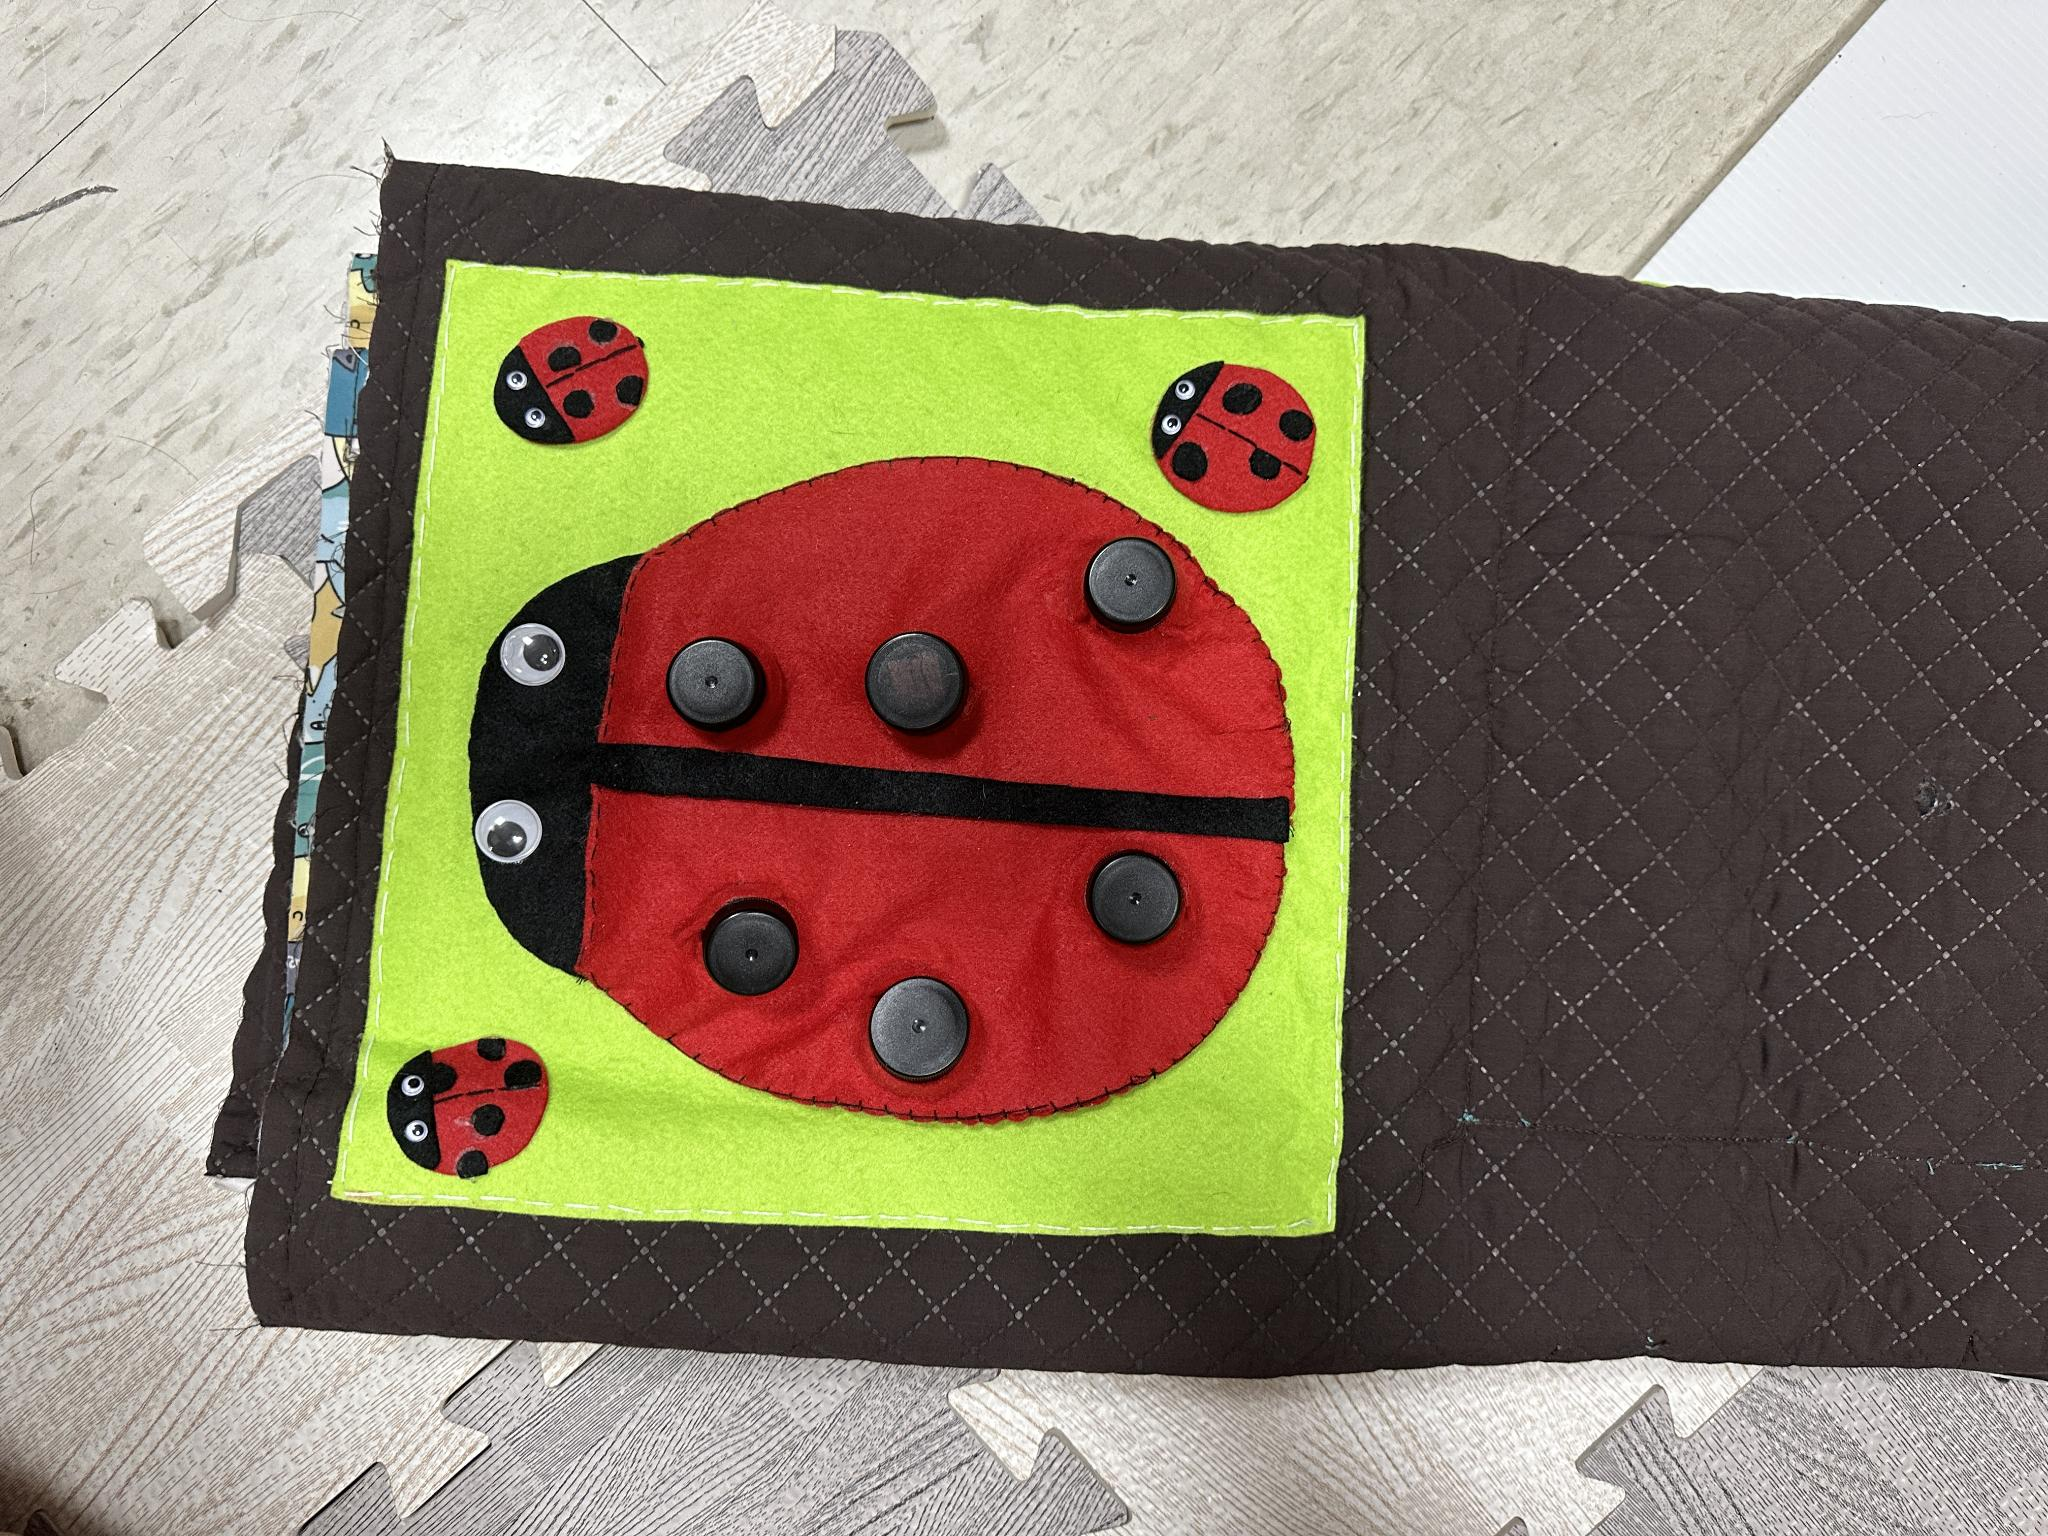cap_ok: (826, 957, 1006, 1096), (674, 866, 814, 1018), (851, 626, 987, 750), (1068, 844, 1211, 955), (658, 631, 790, 742), (1074, 529, 1195, 642)
